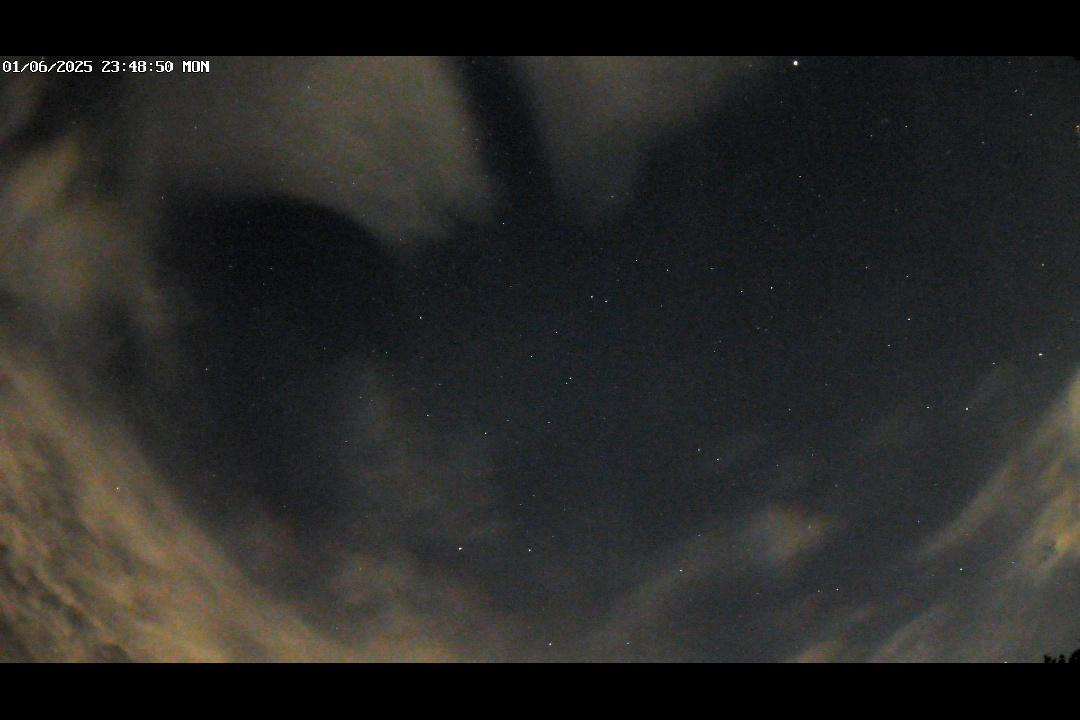Plane: (1073, 121, 1080, 140)
